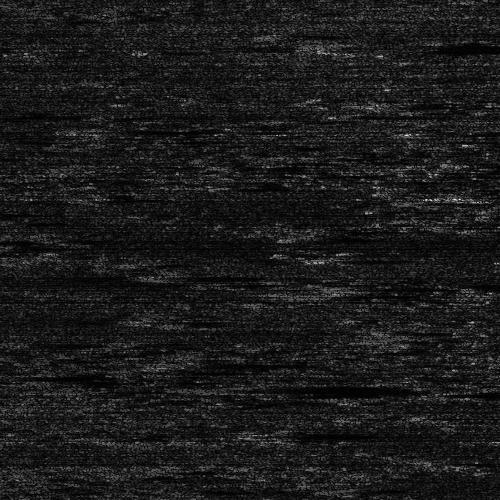object: (373, 189, 500, 204), (254, 40, 399, 51), (440, 211, 500, 224), (226, 428, 309, 437), (150, 384, 233, 393), (296, 282, 379, 289), (122, 273, 195, 278), (61, 118, 72, 137), (322, 113, 375, 116)
shadow: (327, 40, 490, 51), (67, 118, 160, 137), (192, 384, 353, 393), (268, 428, 401, 437), (456, 189, 500, 204), (338, 282, 428, 289), (159, 273, 236, 278), (349, 113, 443, 116)
